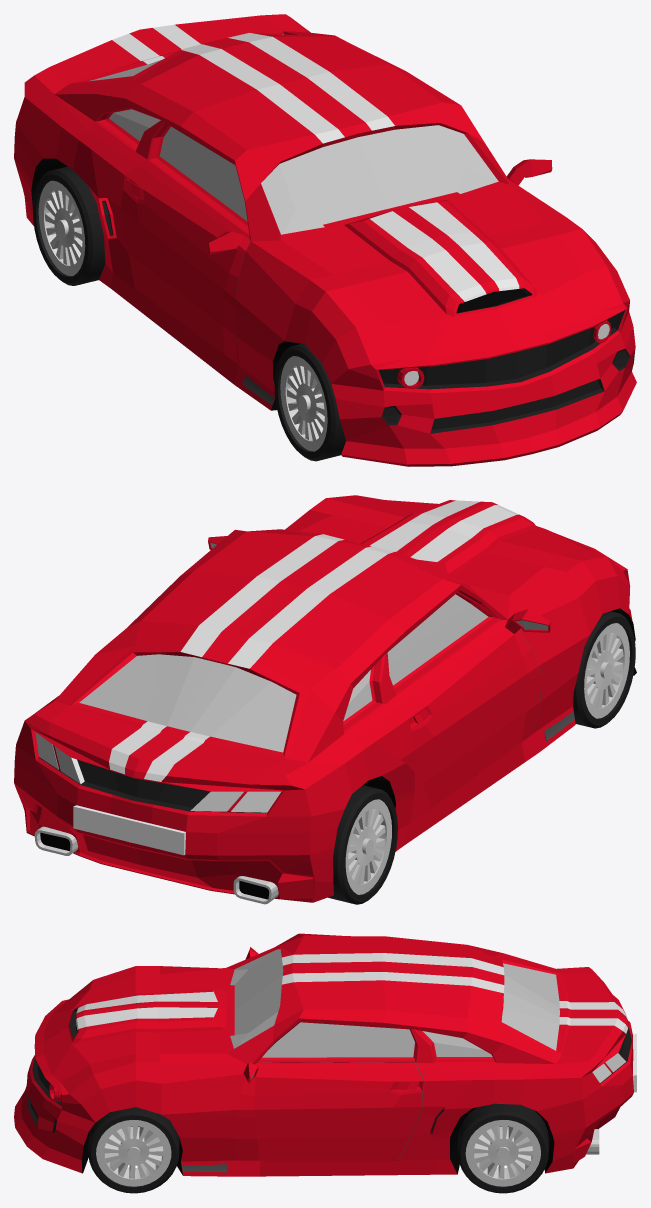
The model's file is camaro_na_pr.fbx.
The picture shows the model from 3 angles, top to bottom: view 1: azimuth 30°, elevation 25°; view 2: azimuth 150°, elevation 25°; view 3: azimuth 270°, elevation 25°; orthographic projection. The views are drawn at different scales.
Parts seen in each view (by area): view 1: body, Right door, BACK_RIGHT_WHEEL, FRONT_RIGHT_WHEEL, Left door; view 2: body, Right door, BACK_RIGHT_WHEEL, FRONT_RIGHT_WHEEL; view 3: body, Left door, BACK_LEFT_WHEEL, FRONT_LEFT_WHEEL.
Boxes of the visible parts, bbox=[...] form: body: bbox=[14, 14, 636, 466]; Right door: bbox=[120, 125, 250, 364]; BACK_RIGHT_WHEEL: bbox=[32, 166, 105, 285]; FRONT_RIGHT_WHEEL: bbox=[274, 343, 345, 461]; Left door: bbox=[506, 159, 552, 185]; body: bbox=[14, 495, 636, 904]; Right door: bbox=[387, 593, 550, 807]; BACK_RIGHT_WHEEL: bbox=[328, 785, 397, 904]; FRONT_RIGHT_WHEEL: bbox=[573, 611, 635, 728]; body: bbox=[14, 933, 636, 1176]; Left door: bbox=[236, 1022, 423, 1160]; BACK_LEFT_WHEEL: bbox=[458, 1103, 548, 1193]; FRONT_LEFT_WHEEL: bbox=[88, 1107, 179, 1193].
Bounding box in the file's own units: 218 × 135 × 445.
